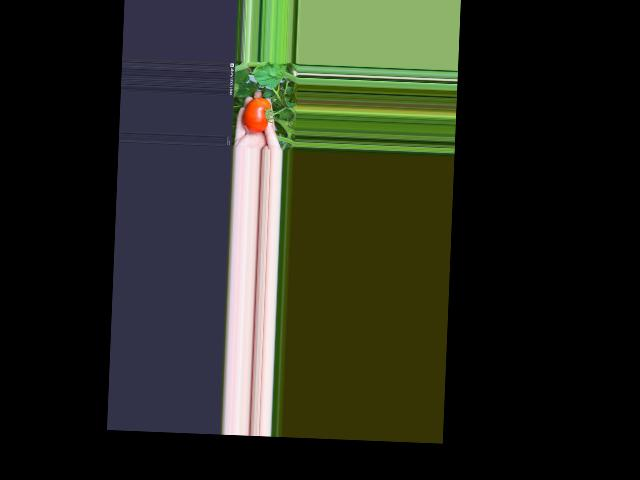tomato: (242, 97, 270, 134)
